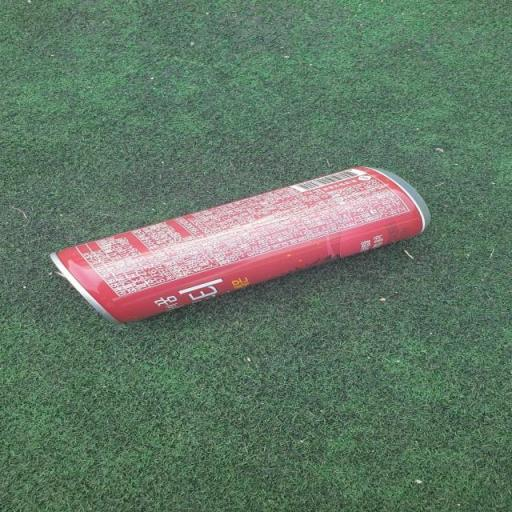metal: (30, 154, 502, 362)
